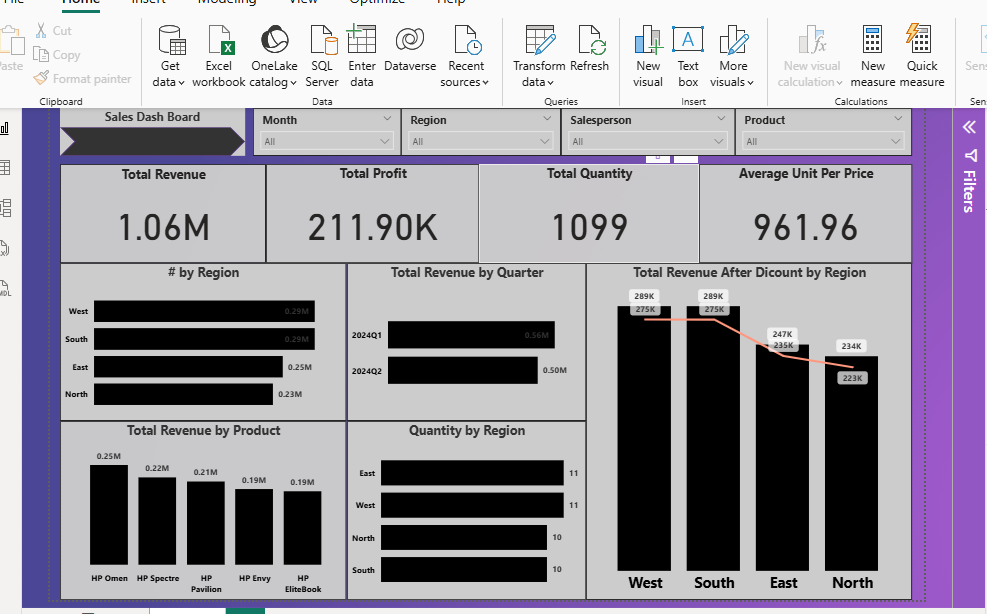

The page's visual inventory and layout, read from the dashboard file:
{"tool":"powerbi","page":{"name":"Page 1","canvas":[1280,720],"ordinal":0},"visuals":[{"type":"card","title":"Total Revenue","fields":{"Values":["Measure dax.Total Revenue"]},"box":[14.6,82,301.5,144.9],"z":0},{"type":"card","title":"Total Profit","fields":{"Values":["Measure dax.Total Profit"]},"box":[316.1,82,311.7,144.9],"z":1000},{"type":"card","title":"Total Quantity","fields":{"Values":["Measure dax.Total quanity"]},"box":[627.8,82,322,144.9],"z":2000},{"type":"card","title":"Average Unit Per Price ","fields":{"Values":["Measure dax.Average Unit Per Price"]},"box":[949.8,82,311.7,144.9],"z":3000},{"type":"clusteredBarChart","title":"# by Region","fields":{"Y":["Measure dax.Total Revenue"],"Category":["Sheet1.Region"]},"box":[14.6,226.8,418.5,231.2],"z":4000},{"type":"columnChart","fields":{"Category":["Sheet1.Product"],"Y":["Measure dax.Total Revenue"]},"box":[14.6,458,418.5,262],"z":5000},{"type":"lineClusteredColumnComboChart","title":"Total Revenue After Dicount by Region","fields":{"Y":["Measure dax.Total Revenue"],"Y2":["Measure dax.Total Revenue After Dicount"],"Category":["Sheet1.Region"]},"box":[784.4,226.8,477.1,493.2],"z":6000},{"type":"barChart","fields":{"Category":["Sheet1.Quarter"],"Y":["Measure dax.Total Revenue"]},"box":[434.6,226.8,349.8,231.2],"z":7000},{"type":"barChart","title":" Quantity by Region","fields":{"Y":["Count(Sheet1.Quantity)"],"Category":["Sheet1.Region"]},"box":[434.6,458,349.8,262],"z":7001},{"type":"slicer","fields":{"Values":["Sheet1.Month"]},"box":[297.1,0,216.6,70.2],"z":7002},{"type":"slicer","fields":{"Values":["Sheet1.Region"]},"box":[513.7,0,234.1,70.2],"z":7003},{"type":"slicer","fields":{"Values":["Sheet1.Salesperson"]},"box":[747.8,0,254.6,70.2],"z":7004},{"type":"slicer","fields":{"Values":["Sheet1.Product"]},"box":[1002.4,0,259,70.2],"z":7005},{"type":"shape","title":"Sales Dash Board ","box":[14.6,0,270.7,70.2],"z":7006}]}

Visuals, with their boxes on the page's 1280x720 design canvas (x1, y1, x2, y2). These are canvas units, not pixel positions in the 987x614 screenshot, which may show the page scaled, cropped or inside an application window:
"Total Revenue" card: locate(15, 82, 316, 227)
"Total Profit" card: locate(316, 82, 628, 227)
"Total Quantity" card: locate(628, 82, 950, 227)
"Average Unit Per Price " card: locate(950, 82, 1262, 227)
"# by Region" clusteredBarChart: locate(15, 227, 433, 458)
columnChart - Sheet1.Product x Measure dax.Total Revenue: locate(15, 458, 433, 720)
"Total Revenue After Dicount by Region" lineClusteredColumnComboChart: locate(784, 227, 1262, 720)
barChart - Sheet1.Quarter x Measure dax.Total Revenue: locate(435, 227, 784, 458)
" Quantity by Region" barChart: locate(435, 458, 784, 720)
slicer - Sheet1.Month: locate(297, 0, 514, 70)
slicer - Sheet1.Region: locate(514, 0, 748, 70)
slicer - Sheet1.Salesperson: locate(748, 0, 1002, 70)
slicer - Sheet1.Product: locate(1002, 0, 1261, 70)
"Sales Dash Board " shape: locate(15, 0, 285, 70)
